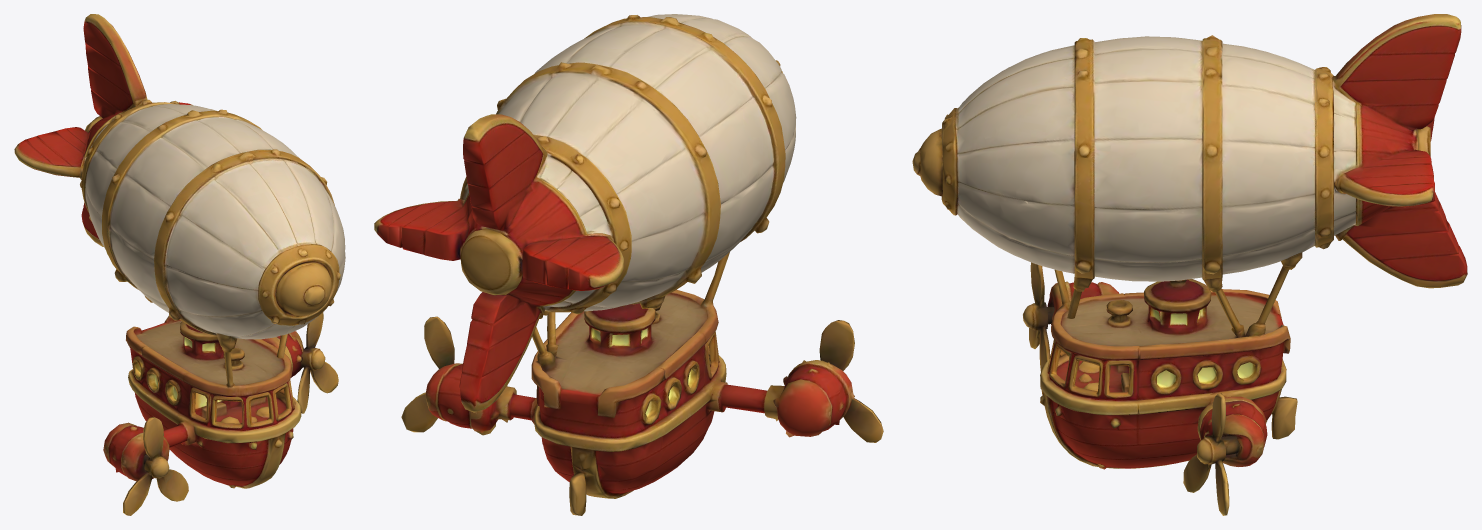
The model's file is airship.glb.
The picture shows the model from 3 angles, left to right: view 1: azimuth 30°, elevation 25°; view 2: azimuth 150°, elevation 25°; view 3: azimuth 270°, elevation 25°; orthographic projection. The views are drawn at different scales.
Visible parts, largest first — view 1: tripo_node_0d3ebf26-c739-4c54-9125-676cd79576b7; view 2: tripo_node_0d3ebf26-c739-4c54-9125-676cd79576b7; view 3: tripo_node_0d3ebf26-c739-4c54-9125-676cd79576b7.
Boxes of the visible parts, x1=… form: tripo_node_0d3ebf26-c739-4c54-9125-676cd79576b7: x1=14, y1=14, x2=345, y2=515; tripo_node_0d3ebf26-c739-4c54-9125-676cd79576b7: x1=374, y1=14, x2=883, y2=515; tripo_node_0d3ebf26-c739-4c54-9125-676cd79576b7: x1=912, y1=14, x2=1467, y2=515.
Bounding box in the file's own units: 0.7421 × 0.8879 × 1.
Materials: 1 (1 with a texture image).
